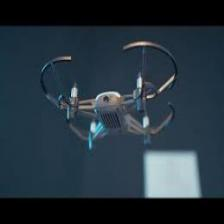drone: (41, 41, 176, 147)
